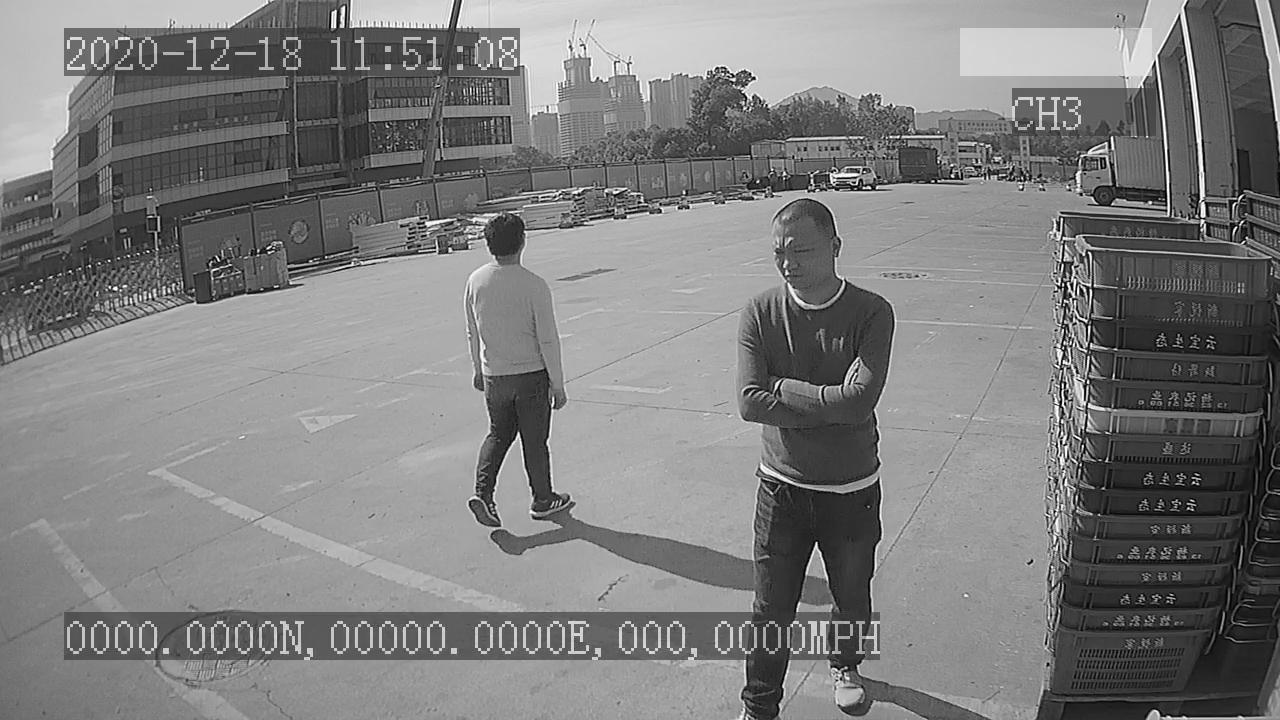person: (456, 204, 586, 531)
